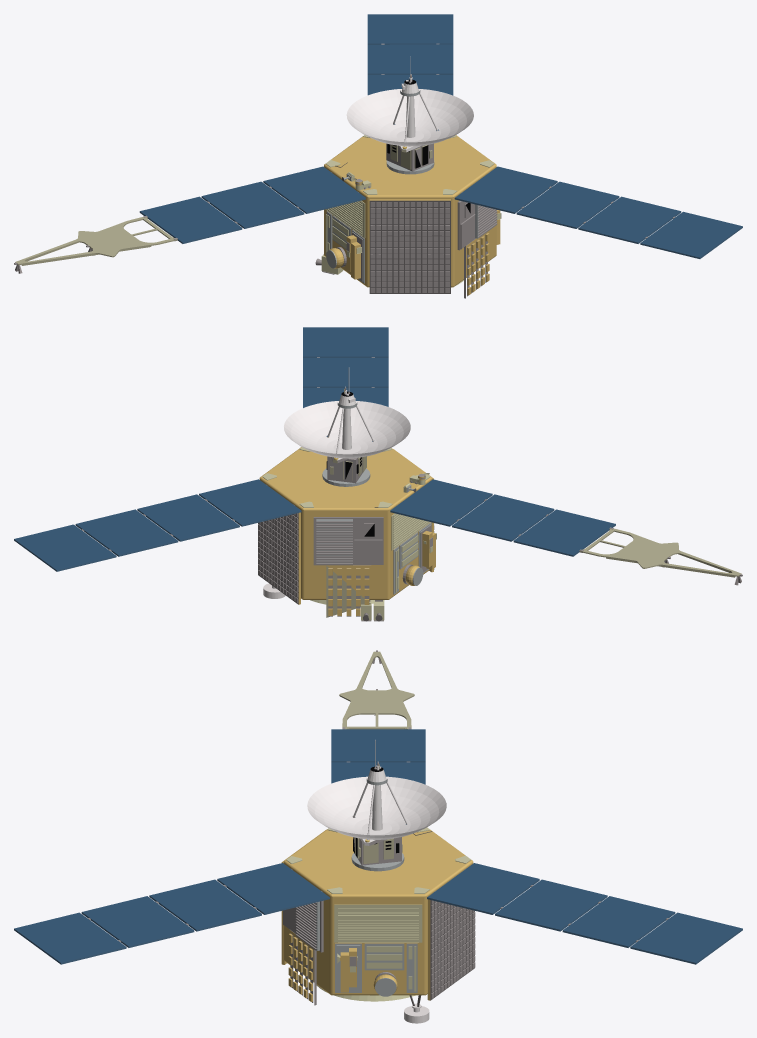
Rendered from juno-b.glb.
The picture shows the model from 3 angles, top to bottom: view 1: azimuth 30°, elevation 25°; view 2: azimuth 150°, elevation 25°; view 3: azimuth 270°, elevation 25°; orthographic projection. The views are drawn at different scales.
Parts seen in each view (by area): view 1: Layer_0; view 2: Layer_0; view 3: Layer_0.
Part boxes in pixels (x1,y1,x2,y2): Layer_0: [14, 14, 742, 298]; Layer_0: [14, 327, 742, 621]; Layer_0: [14, 650, 742, 1023].
Size of the model in its own units: 23.26 by 8.73 by 22.92.
Materials: 2 (2 with a texture image).
